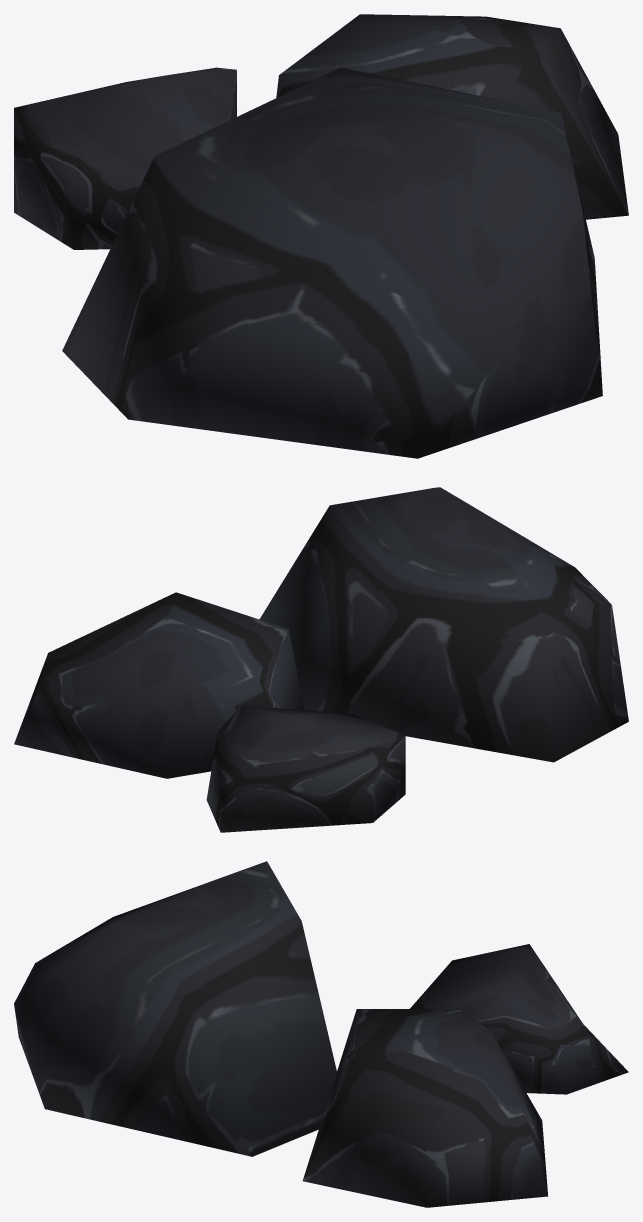
Rendered from SM_PROP_debris_stones_dungeon_01.fbx.
3 views of the same model, one above another, from view 1: azimuth 30°, elevation 25°; view 2: azimuth 150°, elevation 25°; view 3: azimuth 270°, elevation 25° (orthographic). The views are drawn at different scales.
Parts seen in each view (by area): view 1: SM_PROP_debris_stones_dungeon_01; view 2: SM_PROP_debris_stones_dungeon_01; view 3: SM_PROP_debris_stones_dungeon_01.
Boxes of the visible parts, bbox=[...] form: SM_PROP_debris_stones_dungeon_01: bbox=[14, 14, 628, 458]; SM_PROP_debris_stones_dungeon_01: bbox=[14, 487, 628, 832]; SM_PROP_debris_stones_dungeon_01: bbox=[14, 861, 628, 1207].
Size of the model in its own units: 86.94 by 28.4 by 97.05.
